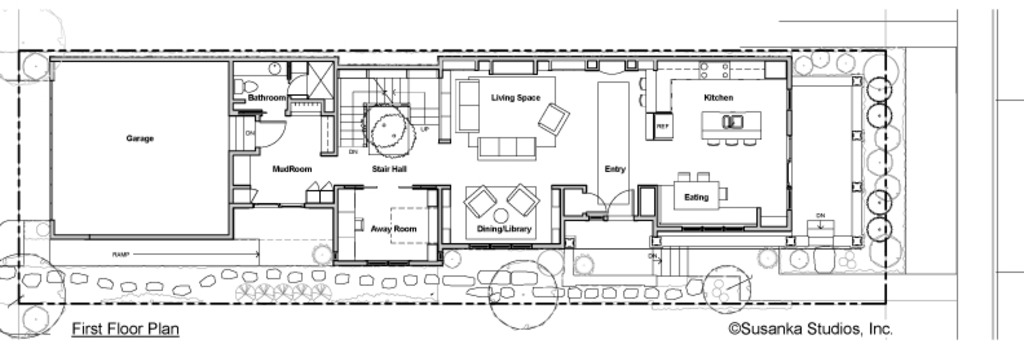door: (601, 180, 640, 220), (257, 117, 291, 148), (581, 186, 608, 217)
kitchen_bar: (694, 106, 766, 146)
large_sink: (229, 74, 268, 97)
large_sofa: (481, 131, 539, 163), (456, 77, 483, 135)
small_sink: (263, 62, 287, 75)
small_sofa: (458, 180, 497, 217), (506, 179, 547, 214), (533, 101, 575, 135)
stairs: (337, 72, 436, 146), (645, 244, 724, 279)
